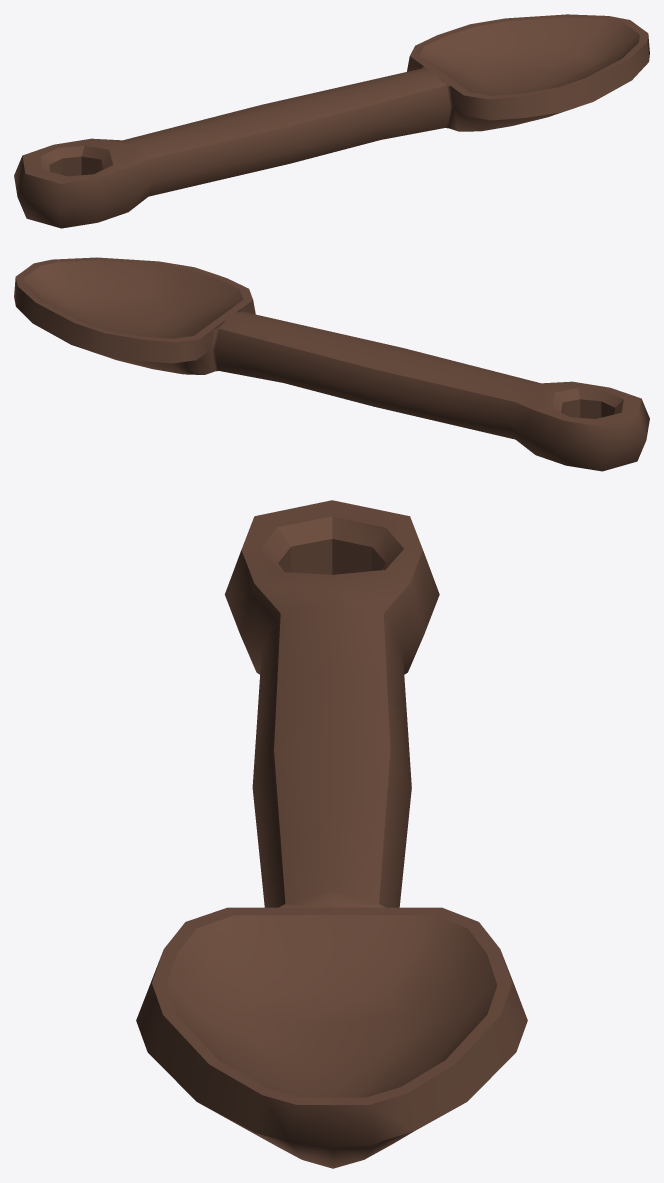
The model's file is atoll_spoon.fbx.
3 renders of one model, top to bottom at view 1: azimuth 30°, elevation 25°; view 2: azimuth 150°, elevation 25°; view 3: azimuth 270°, elevation 25°, orthographic. The views are drawn at different scales.
Visible parts, largest first — view 1: pCube38; view 2: pCube38; view 3: pCube38.
Part boxes in pixels (<box>): pCube38: <box>14,14,649,228</box>; pCube38: <box>14,257,649,471</box>; pCube38: <box>136,500,527,1168</box>.
Bounding box in the file's own units: 75.03 × 6.64 × 20.48.
